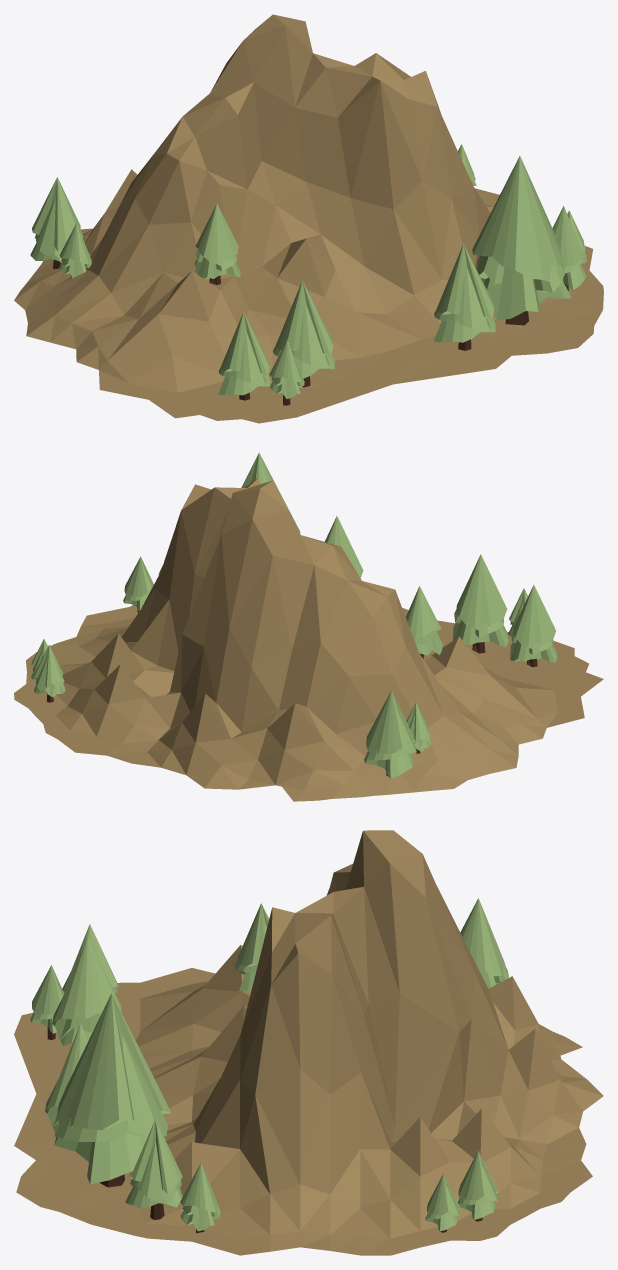
File: environment_ar.fbx
3 views of the same model, one above another, from view 1: azimuth 30°, elevation 25°; view 2: azimuth 150°, elevation 25°; view 3: azimuth 270°, elevation 25° (orthographic). The views are drawn at different scales.
Parts seen in each view (by area): view 1: Mountain, Tree.002, Tree.007, Tree.009, Tree.010, Tree.012, Tree.005, Tree.008, Tree.006, Tree.001; view 2: Mountain, Tree.009, Tree.012, Tree.010, Tree.005, Tree.004, Tree.011, Tree.001, Tree.007, Tree.002; view 3: Mountain, Tree.002, Tree.009, Tree.008, Tree.012, Tree.004, Tree.011, Tree.005, Tree.006, Tree.007, Tree.003, Tree.010.
Boxes of the visible parts, x1=… form: Mountain: x1=14, y1=14, x2=603, y2=423; Tree.002: x1=472, y1=156, x2=571, y2=325; Tree.007: x1=433, y1=243, x2=495, y2=350; Tree.009: x1=273, y1=280, x2=334, y2=387; Tree.010: x1=218, y1=312, x2=270, y2=400; Tree.012: x1=30, y1=177, x2=83, y2=269; Tree.005: x1=194, y1=204, x2=240, y2=284; Tree.008: x1=552, y1=206, x2=587, y2=290; Tree.006: x1=269, y1=340, x2=304, y2=405; Tree.001: x1=59, y1=223, x2=91, y2=277; Mountain: x1=14, y1=478, x2=603, y2=801; Tree.009: x1=453, y1=554, x2=508, y2=653; Tree.012: x1=364, y1=690, x2=416, y2=778; Tree.010: x1=510, y1=584, x2=557, y2=667; Tree.005: x1=405, y1=586, x2=442, y2=658; Tree.004: x1=33, y1=644, x2=65, y2=702; Tree.011: x1=123, y1=556, x2=153, y2=612; Tree.001: x1=406, y1=702, x2=430, y2=753; Tree.007: x1=324, y1=516, x2=363, y2=577; Tree.002: x1=241, y1=452, x2=300, y2=533; Mountain: x1=14, y1=830, x2=603, y2=1255; Tree.002: x1=54, y1=993, x2=170, y2=1187; Tree.009: x1=52, y1=936, x2=122, y2=1046; Tree.008: x1=125, y1=1119, x2=182, y2=1219; Tree.012: x1=460, y1=898, x2=508, y2=988; Tree.004: x1=458, y1=1151, x2=498, y2=1221; Tree.011: x1=180, y1=1162, x2=220, y2=1233; Tree.005: x1=234, y1=903, x2=269, y2=991; Tree.006: x1=30, y1=965, x2=64, y2=1039; Tree.007: x1=45, y1=1024, x2=88, y2=1132; Tree.003: x1=425, y1=1174, x2=460, y2=1232; Tree.010: x1=62, y1=924, x2=121, y2=1007.
Size of the model in its own units: 2323 by 1076 by 2013.
